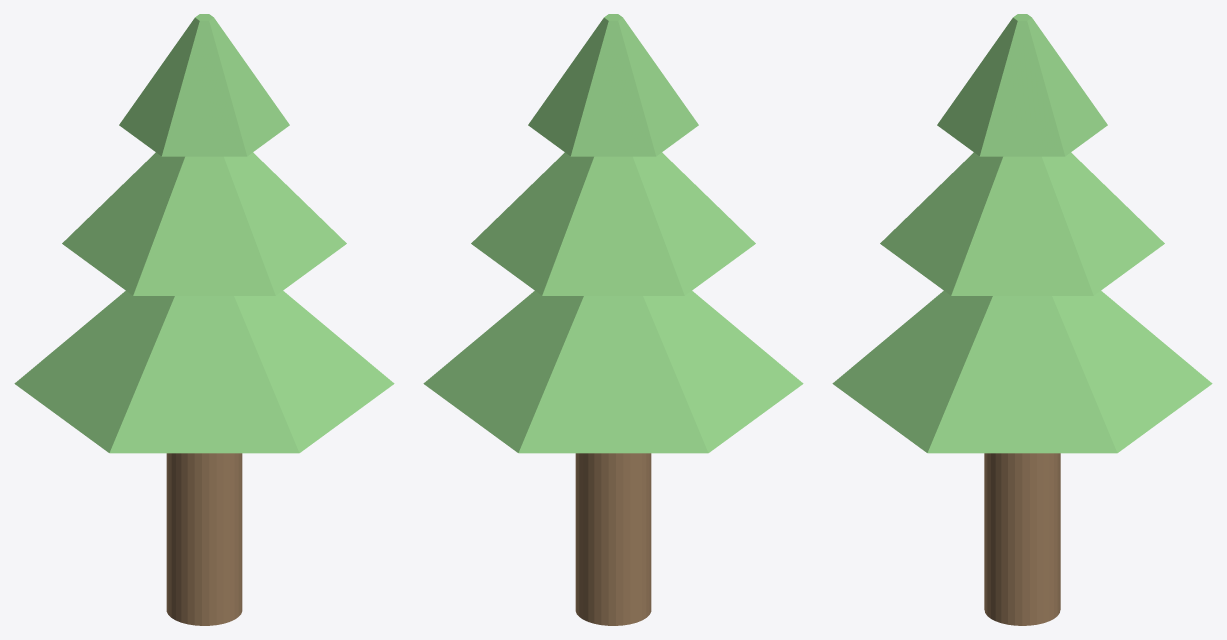
Rendered from tree_01.glb.
3 views of the same model, side by side, from view 1: azimuth 30°, elevation 25°; view 2: azimuth 150°, elevation 25°; view 3: azimuth 270°, elevation 25° (orthographic).
Visible parts, largest first — view 1: LowPolyTree; view 2: LowPolyTree; view 3: LowPolyTree.
Part boxes in pixels (x1,y1,x2,y2): LowPolyTree: [14, 14, 394, 625]; LowPolyTree: [423, 14, 803, 625]; LowPolyTree: [832, 14, 1212, 625].
Size of the model in its own units: 0.6928 by 1.38 by 0.8.
